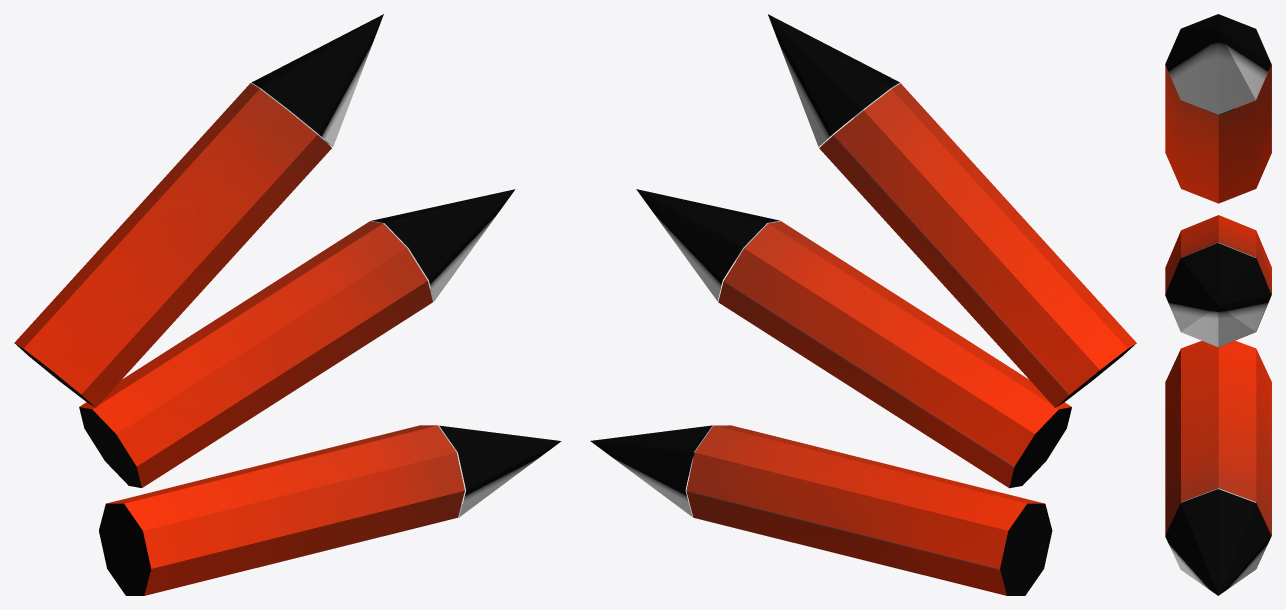
The model's file is TriShot.fbx.
The picture shows the model from 3 angles, left to right: view 1: azimuth 30°, elevation 25°; view 2: azimuth 150°, elevation 25°; view 3: azimuth 270°, elevation 25°; orthographic projection.
Parts seen in each view (by area): view 1: TRISHOT; view 2: TRISHOT; view 3: TRISHOT.
Boxes of the visible parts, x1=… form: TRISHOT: x1=14, y1=14, x2=561, y2=595; TRISHOT: x1=590, y1=14, x2=1136, y2=595; TRISHOT: x1=1165, y1=14, x2=1271, y2=595.
Size of the model in its own units: 80.54 by 74.25 by 13.63.
